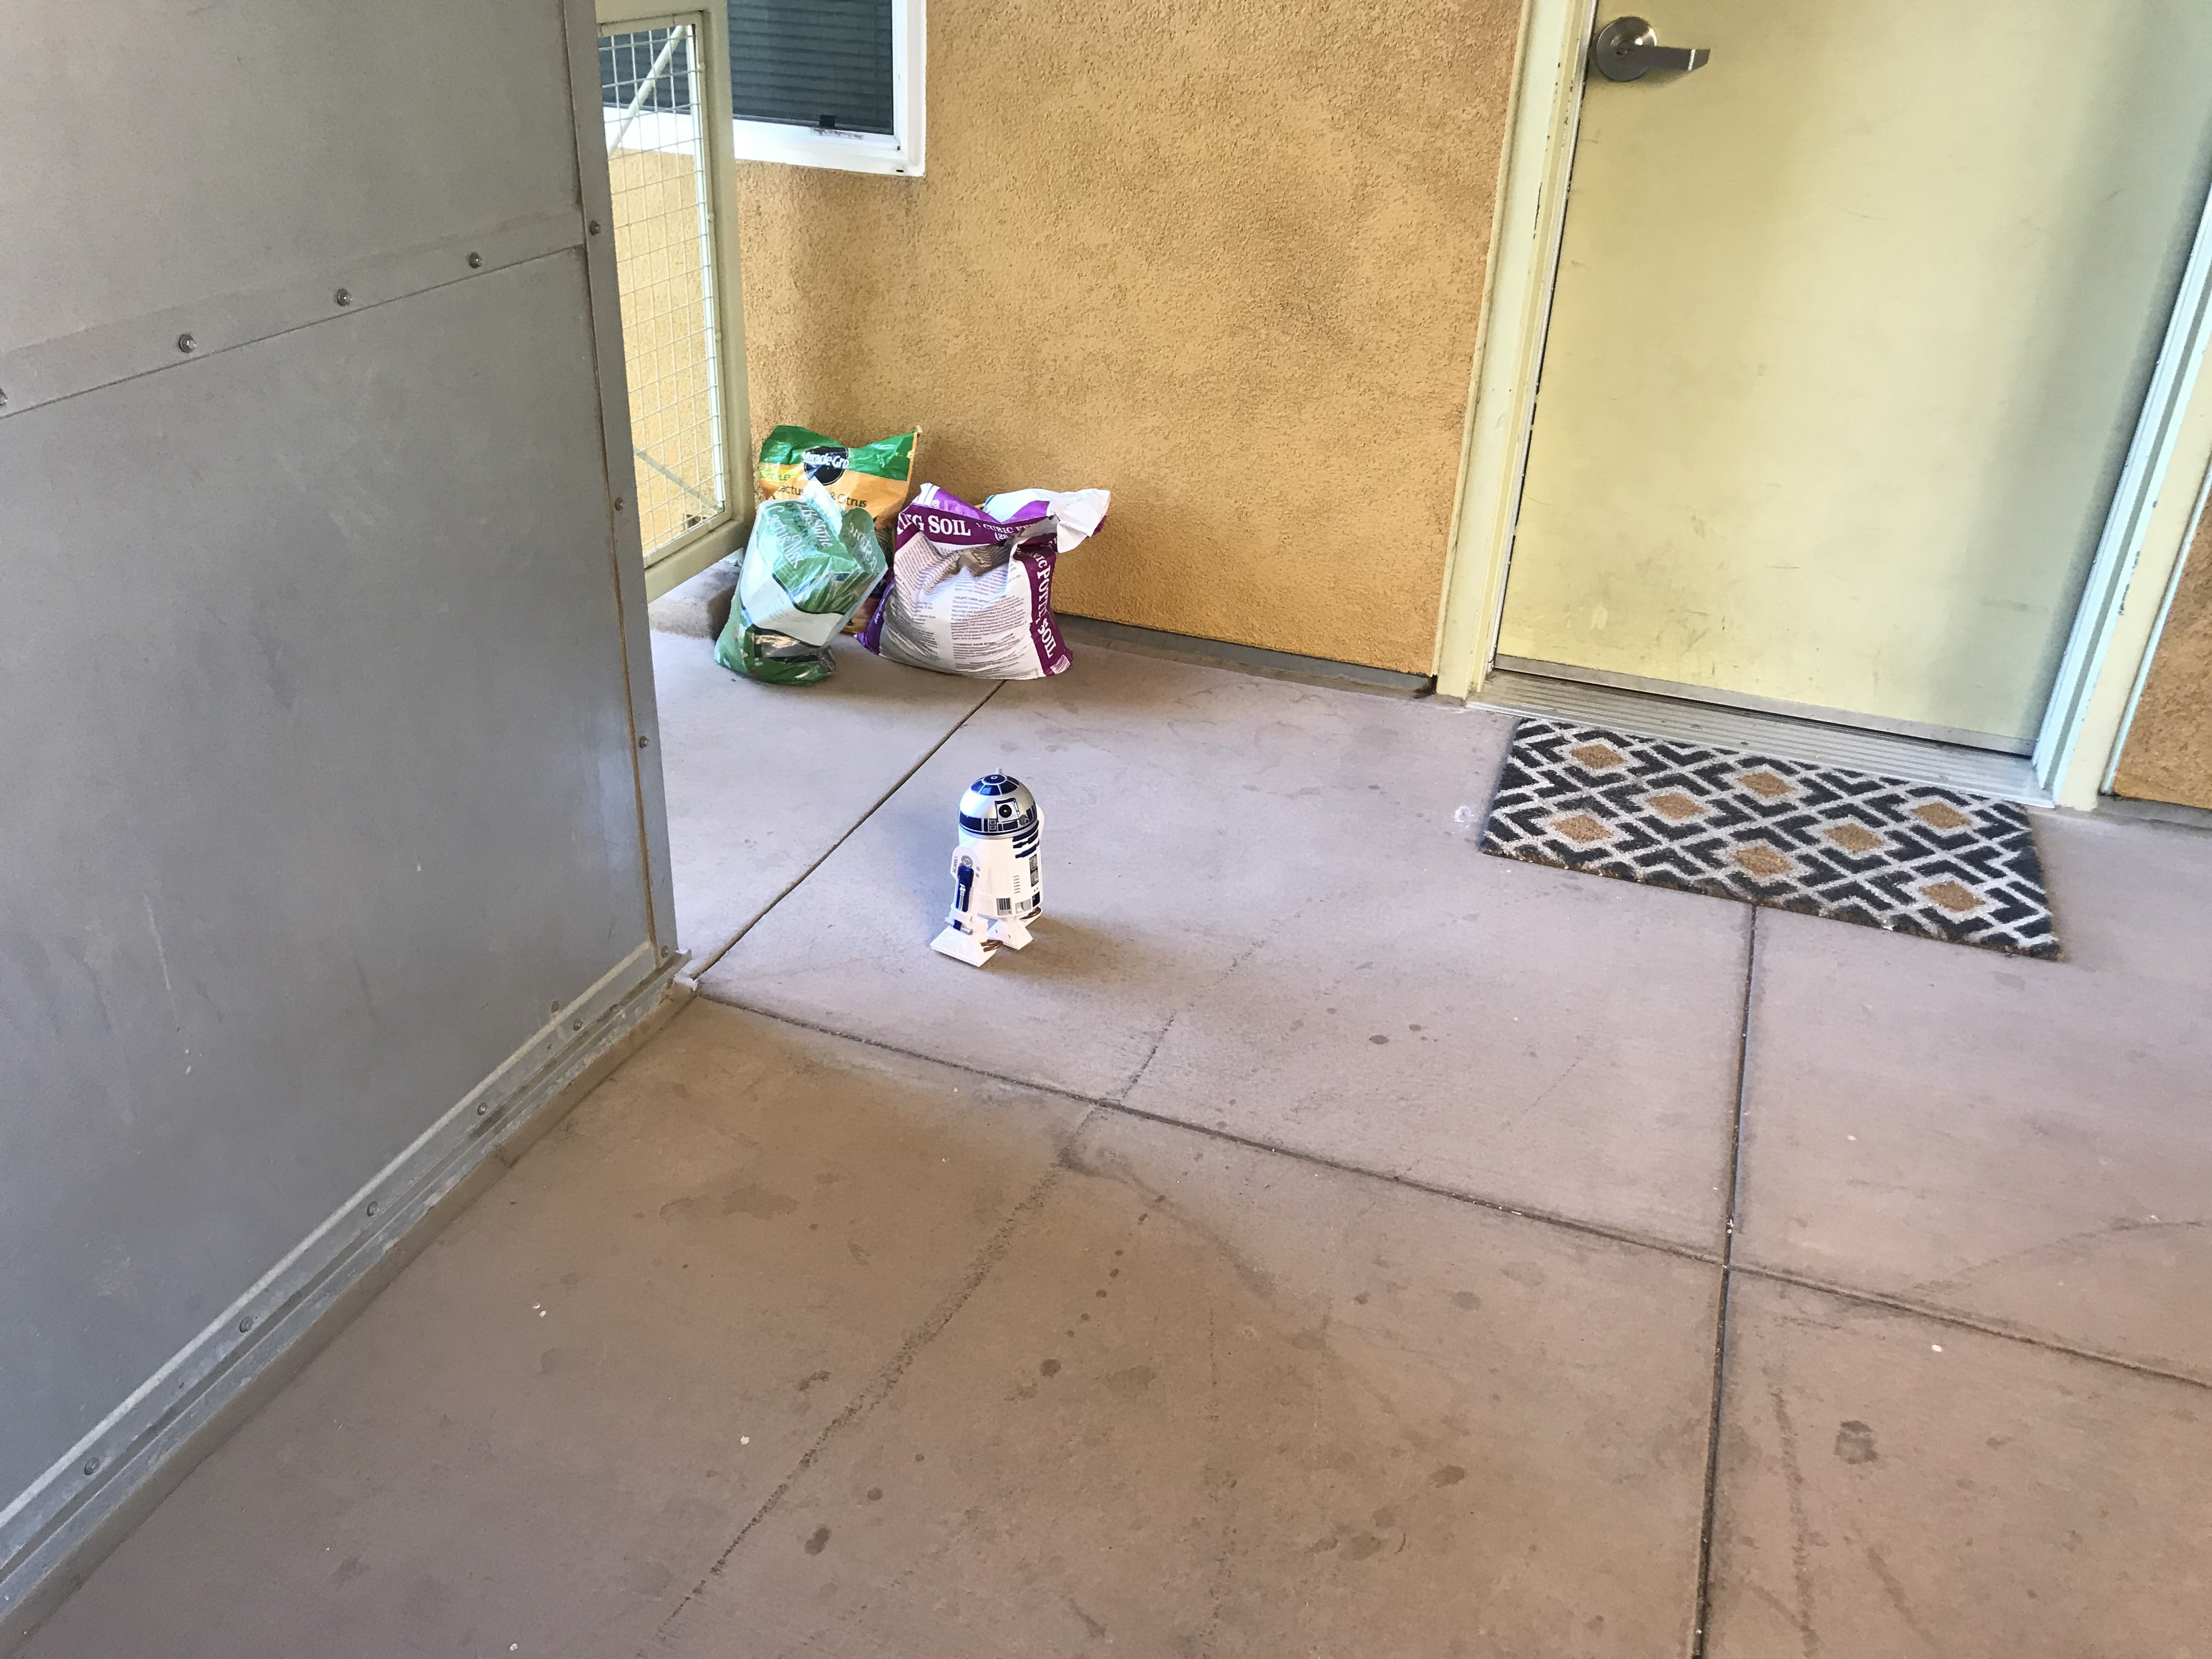r2d2: (928, 772, 1043, 967)
